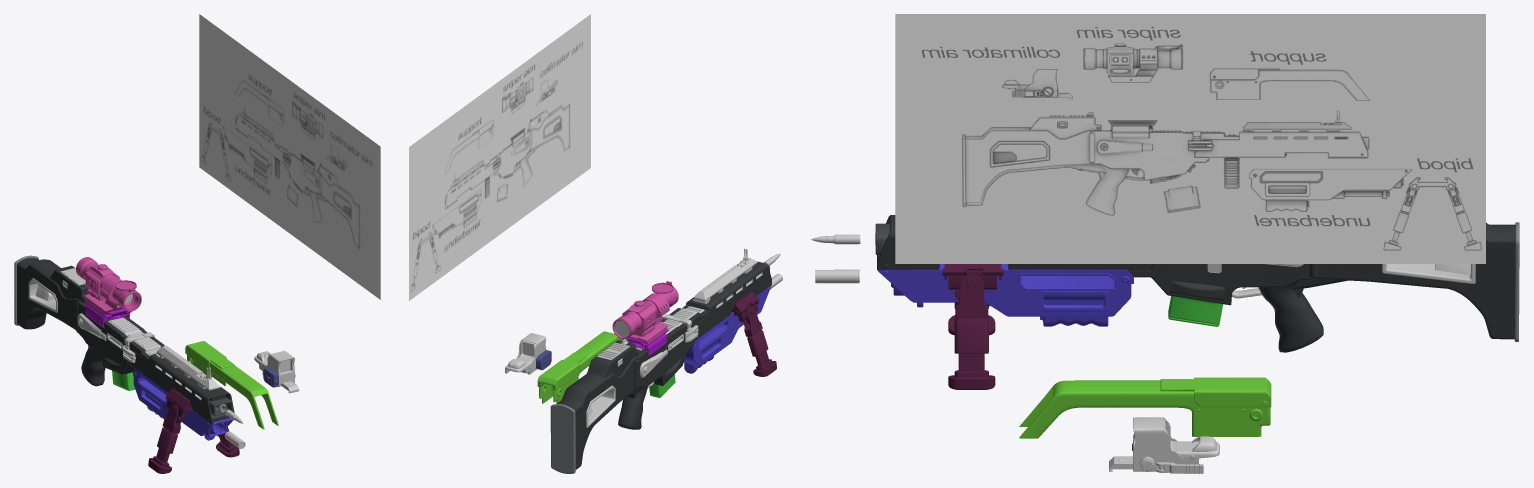
Rendered from allUVSR.fbx.
3 views of the same model, side by side, from view 1: azimuth 30°, elevation 25°; view 2: azimuth 150°, elevation 25°; view 3: azimuth 270°, elevation 25° (orthographic). The views are drawn at different scales.
Visible parts, largest first — view 1: Plane, a2bb, a3bb, a1bb, bipod_Sym, base_body, body, supKit, nak, con2_2, incutBB, con1_3 (+2 smaller); view 2: Plane, a2bb, a3bb, a1bb, bipod_Sym, base_body, body, nak, supKit, incutBB, con2_2, body1_2 (+1 smaller); view 3: Plane, a2bb, base_body, body, bipod_Sym, a1bb, nak, a3bb, body3, Boo, Cube_3, incutBB (+1 smaller).
Part boxes in pixels (<box>): Plane: <box>199,14,380,299</box>; a2bb: <box>14,255,105,386</box>; a3bb: <box>127,350,234,424</box>; a1bb: <box>77,301,164,374</box>; bipod_Sym: <box>148,397,239,473</box>; base_body: <box>187,355,278,429</box>; body: <box>133,368,233,435</box>; supKit: <box>157,345,220,390</box>; nak: <box>185,341,234,368</box>; con2_2: <box>62,268,159,357</box>; incutBB: <box>28,278,57,312</box>; con1_3: <box>60,268,160,355</box>; Plane: <box>409,14,590,300</box>; a2bb: <box>550,340,648,473</box>; a3bb: <box>686,261,771,345</box>; a1bb: <box>636,305,709,389</box>; bipod_Sym: <box>735,301,776,376</box>; base_body: <box>539,331,622,403</box>; body: <box>684,285,771,366</box>; nak: <box>537,352,586,390</box>; supKit: <box>694,257,757,302</box>; incutBB: <box>586,385,615,427</box>; con2_2: <box>598,299,708,358</box>; body1_2: <box>622,301,656,336</box>; Plane: <box>895,14,1485,263</box>; a2bb: <box>1258,222,1519,352</box>; base_body: <box>1019,380,1270,438</box>; body: <box>877,264,1133,316</box>; bipod_Sym: <box>942,267,1003,389</box>; a1bb: <box>1128,264,1315,305</box>; nak: <box>1160,377,1271,407</box>; a3bb: <box>875,215,1151,269</box>; body3: <box>1133,417,1185,471</box>; Boo: <box>1018,273,1117,290</box>; Cube_3: <box>1039,291,1108,311</box>; incutBB: <box>1382,264,1475,283</box>.
Size of the model in its own units: 623 by 849 by 1148.
